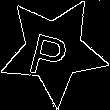P_N: (30, 22, 77, 79)
